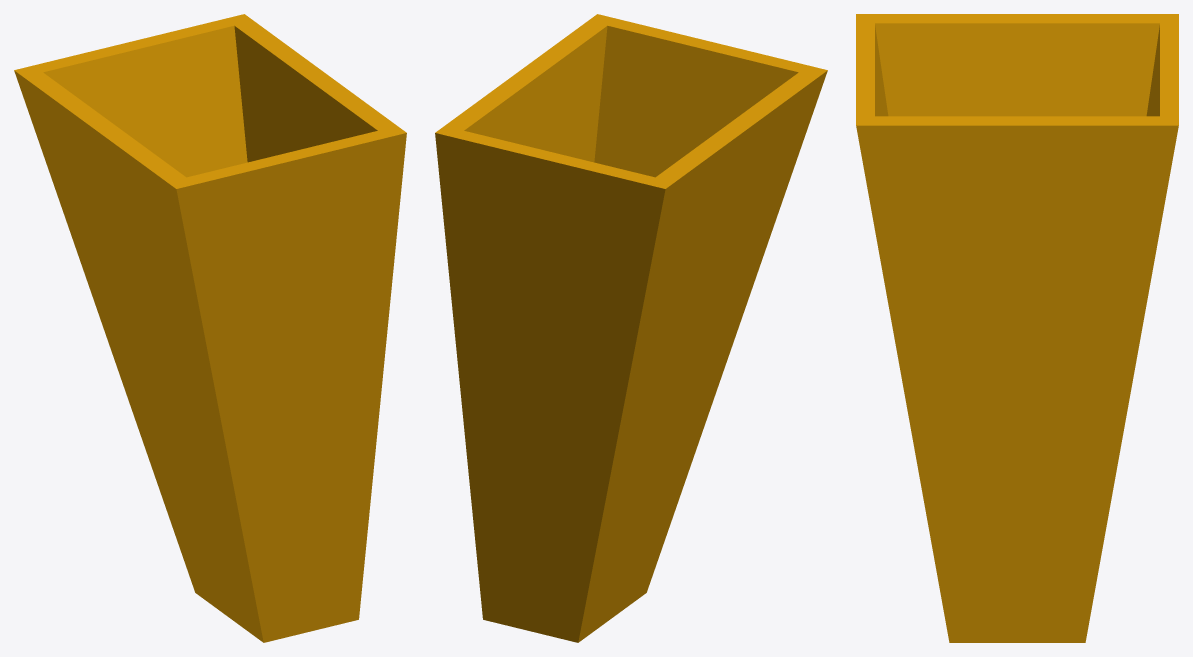
The model's file is WallLamp.fbx.
3 renders of one model, left to right at view 1: azimuth 30°, elevation 25°; view 2: azimuth 150°, elevation 25°; view 3: azimuth 270°, elevation 25°, orthographic.
Visible parts, largest first — view 1: Cube; view 2: Cube; view 3: Cube.
Part boxes in pixels (x1,y1,x2,y2): Cube: [14, 14, 406, 642]; Cube: [435, 14, 827, 642]; Cube: [856, 14, 1178, 642].
Size of the model in its own units: 81.95 by 177 by 100.
